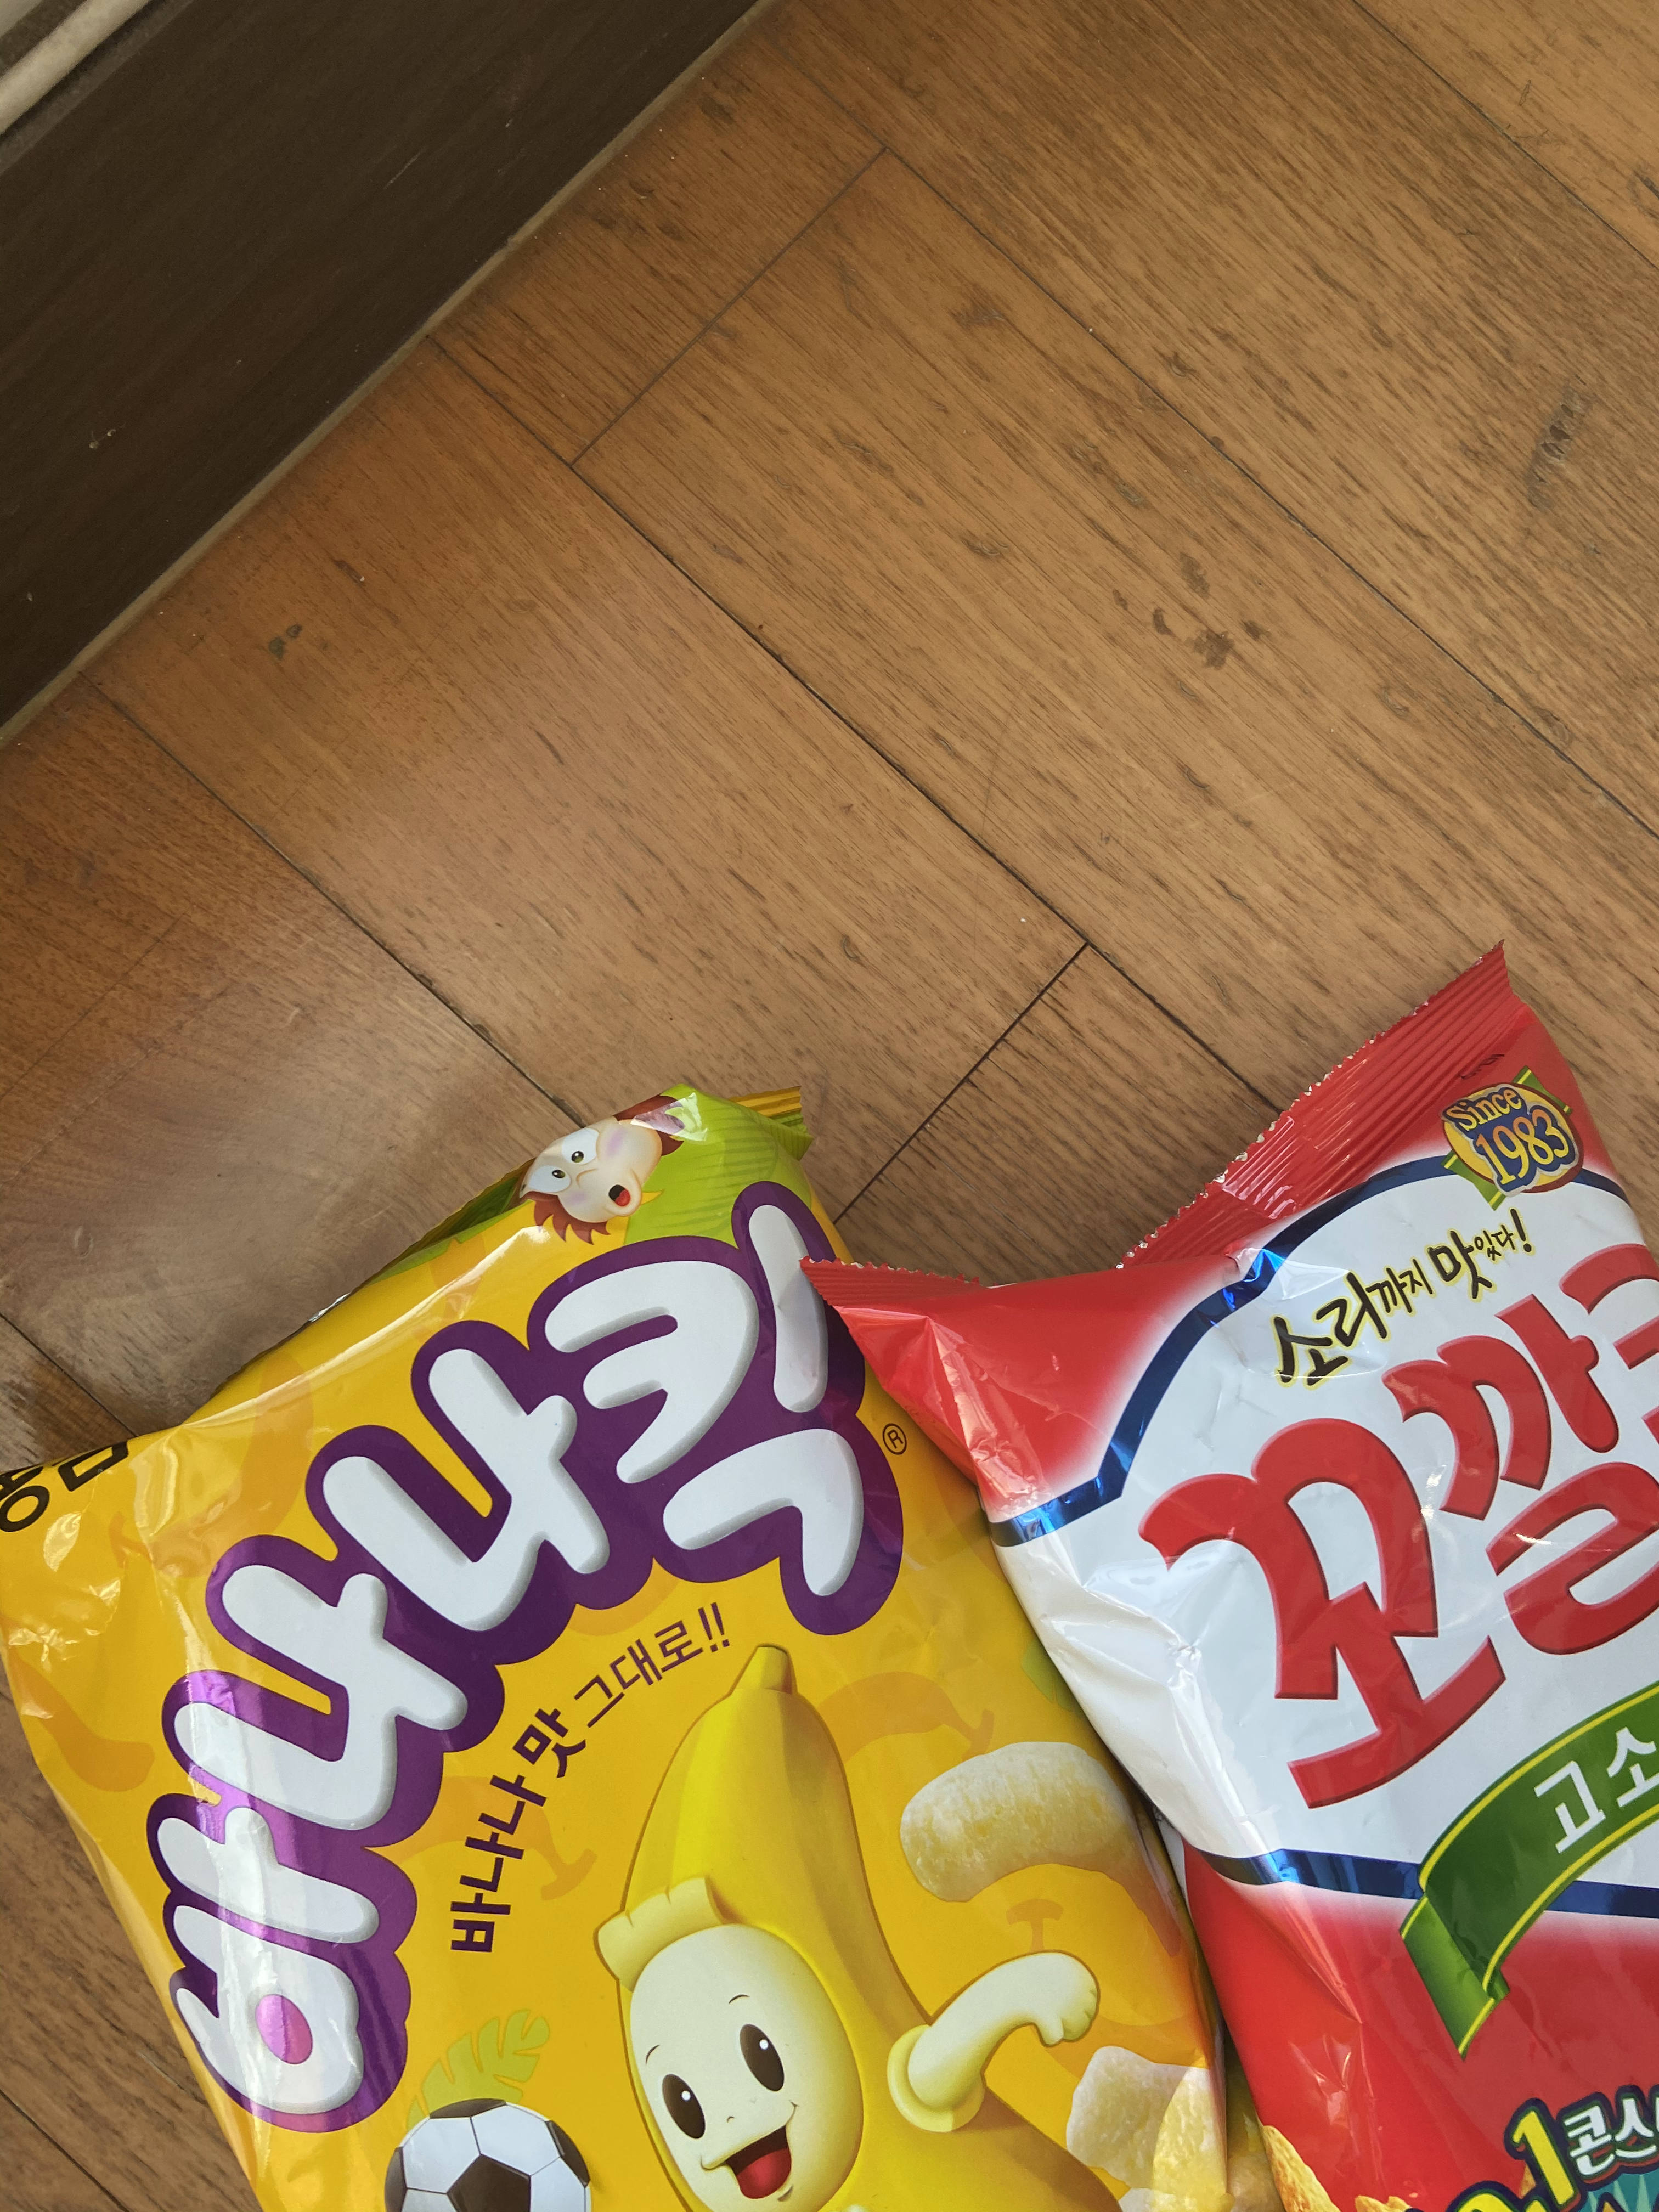banana: (0, 1050, 1284, 2207)
ggoggalcon: (777, 928, 1659, 2209)
